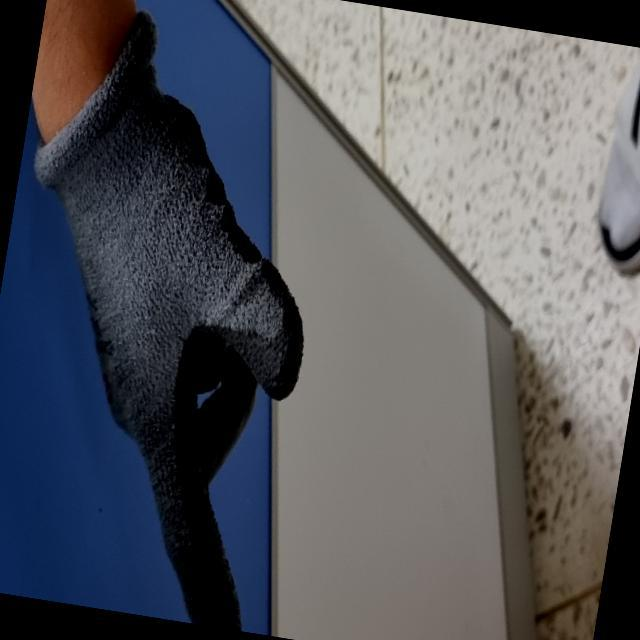Gloves: (31, 0, 311, 636)
